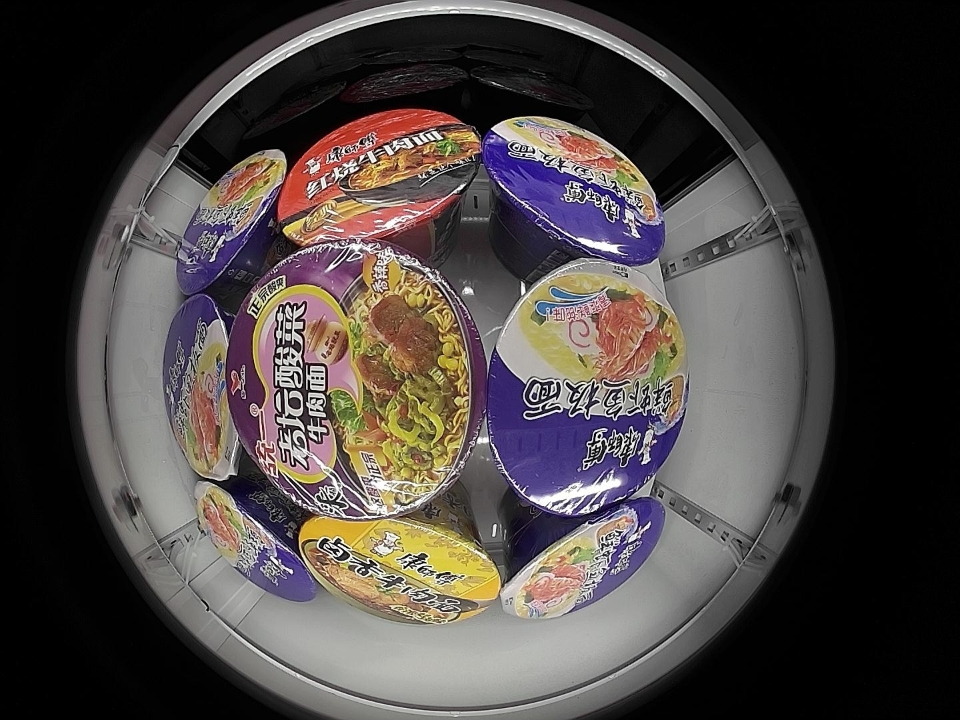hongshaoniurou: (276, 107, 482, 246)
laotansuancai: (225, 239, 484, 519)
luxiangniurou: (298, 514, 501, 625)
xianxiayuban: (486, 259, 690, 517), (482, 117, 665, 265), (501, 497, 666, 621), (175, 149, 288, 296), (192, 478, 314, 603), (163, 293, 244, 481)
